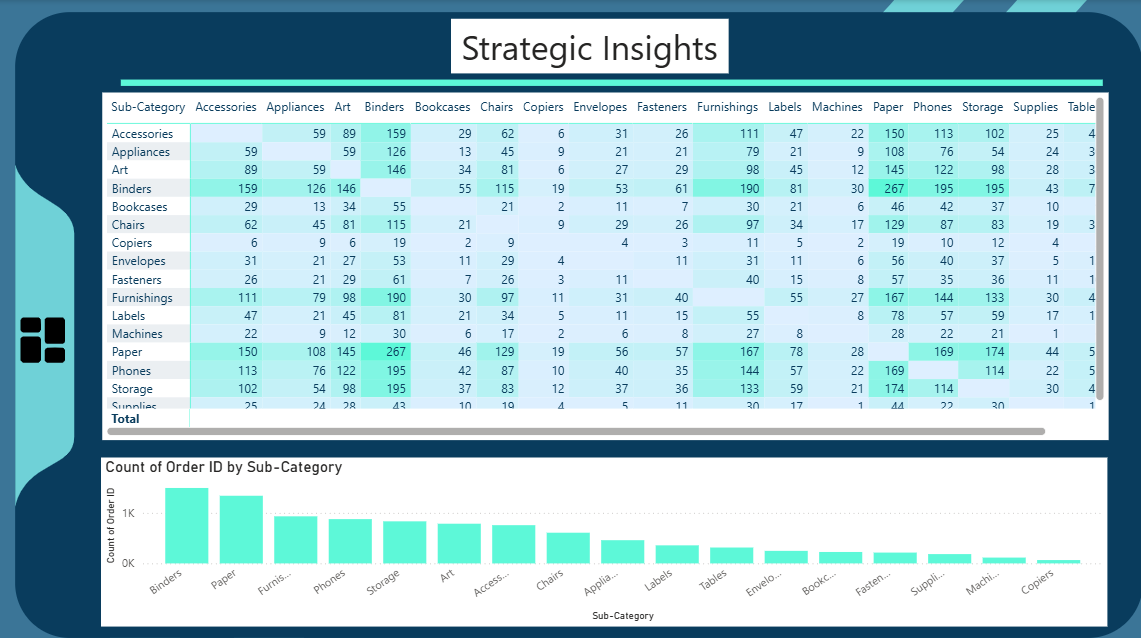

The page's visual inventory and layout, read from the dashboard file:
{"tool":"powerbi","page":{"name":"Strategic Insights","canvas":[1280,720],"ordinal":3},"visuals":[{"type":"pivotTable","fields":{"Rows":["heatmab.Sub-Category"],"Columns":["fact.Sub-Category"],"Values":["mesuers.Common Orders"]},"box":[116.6,101.5,1104.6,381.5],"z":0},{"type":"clusteredColumnChart","fields":{"Category":["Product.Sub-Category"],"Y":["CountNonNull(fact.Order ID)"]},"box":[115.3,502.2,1104.6,185.2],"z":1000},{"type":"textbox","box":[499.5,20.6,304.6,60.4],"z":2000},{"type":"image","box":[20.6,348.5,61.7,49.4],"z":3000}]}

Visuals, with their boxes in screenshot pixels (x1, y1, x2, y2), scaled from the page's 1280x720 canvas onto the 1141x638 screenshot:
pivotTable - heatmab.Sub-Category x fact.Sub-Category: bbox(104, 90, 1089, 428)
clusteredColumnChart - Product.Sub-Category x CountNonNull(fact.Order ID): bbox(103, 445, 1087, 609)
textbox: bbox(445, 18, 717, 72)
image: bbox(18, 309, 73, 353)
